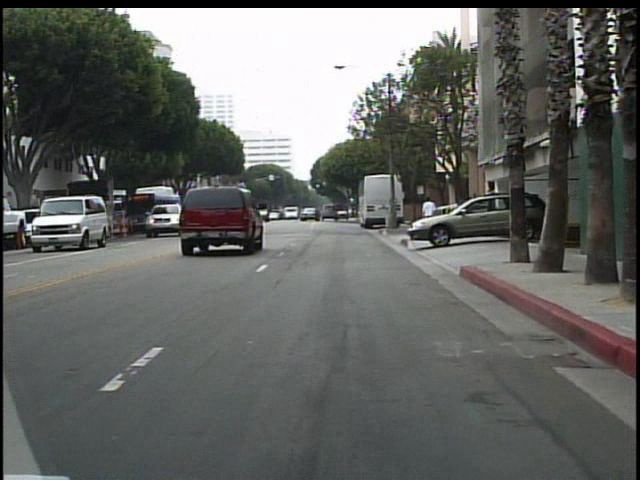person: (418, 194, 440, 237)
